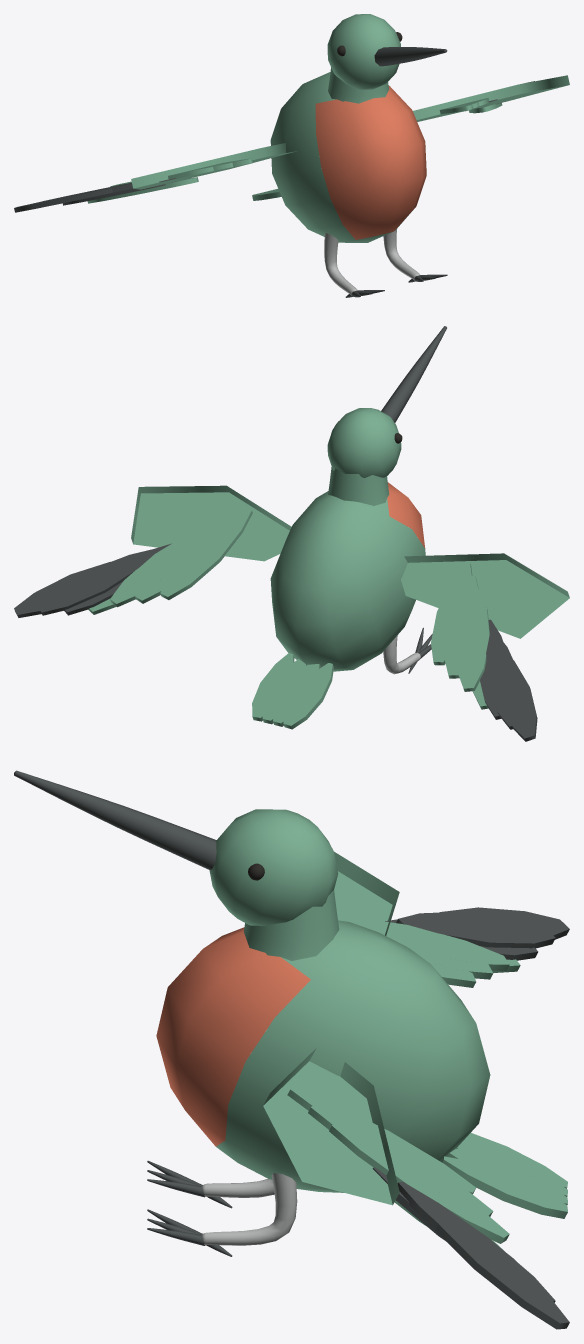
Rendered from birds-and-flying-creatures-hummingbird-d1e7a4e3__20621.glb.
3 views of the same model, one above another, from view 1: azimuth 30°, elevation 25°; view 2: azimuth 150°, elevation 25°; view 3: azimuth 270°, elevation 25° (orthographic). The views are drawn at different scales.
Parts seen in each view (by area): view 1: hummingbird; view 2: hummingbird; view 3: hummingbird.
Boxes of the visible parts, x1,y1,x2,y2 form: hummingbird: (14, 14, 569, 297); hummingbird: (14, 326, 569, 741); hummingbird: (14, 770, 569, 1329).
Bounding box in the file's own units: 0.199 × 0.1061 × 0.1158.
